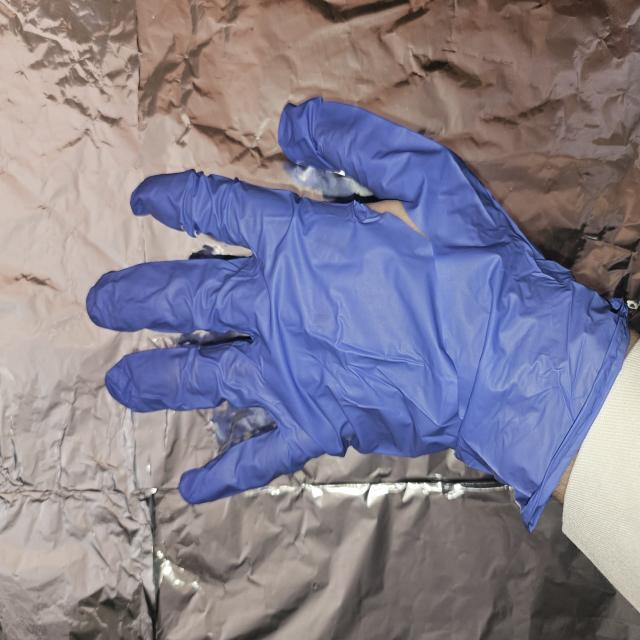gloves_damaged: (85, 96, 630, 537)
